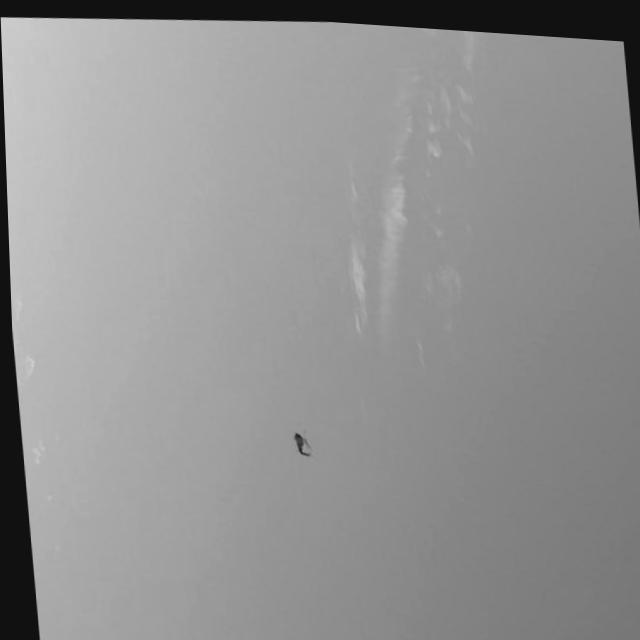helikopter: (260, 394, 344, 472)
